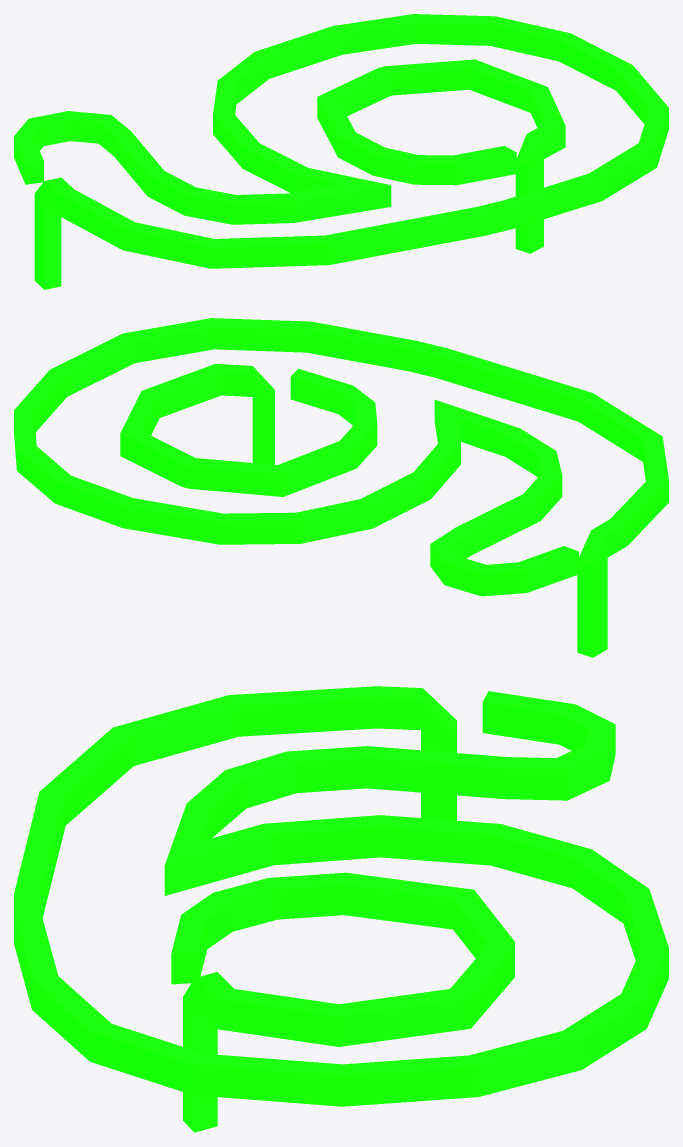
File: Number_3D_04_9.FBX
The picture shows the model from 3 angles, top to bottom: view 1: azimuth 30°, elevation 25°; view 2: azimuth 150°, elevation 25°; view 3: azimuth 270°, elevation 25°; orthographic projection. The views are drawn at different scales.
Visible parts, largest first — view 1: Number_3D_04_9; view 2: Number_3D_04_9; view 3: Number_3D_04_9.
Part boxes in pixels (x1,y1,x2,y2): Number_3D_04_9: (14, 14, 668, 289); Number_3D_04_9: (14, 318, 668, 657); Number_3D_04_9: (14, 686, 668, 1132).
Size of the model in its own units: 68.32 by 12.63 by 48.53.
